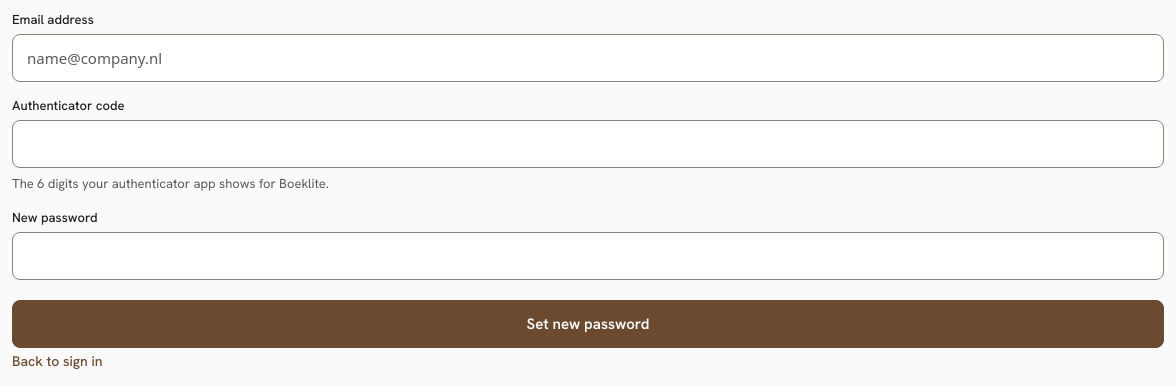
Test: password recovery screen (IAM-018) › sends the e-mail, the code without spaces and the new password, then points to sign in
This screenshot has width=1176, height=386.
Type "a@example.com" into the field with test id "recover-email" at (588, 58), box [12,34,1164,82]
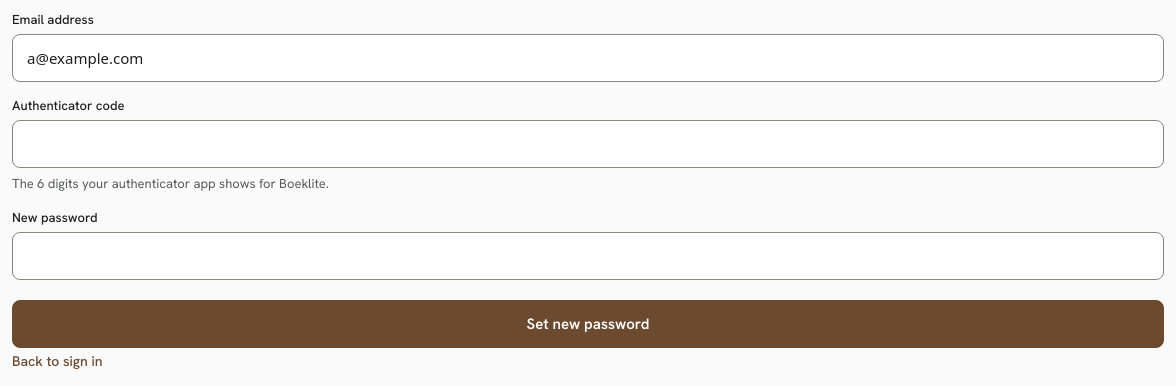
Type "123 456" into the field with test id "recover-code" at (588, 144), box [12,120,1164,168]
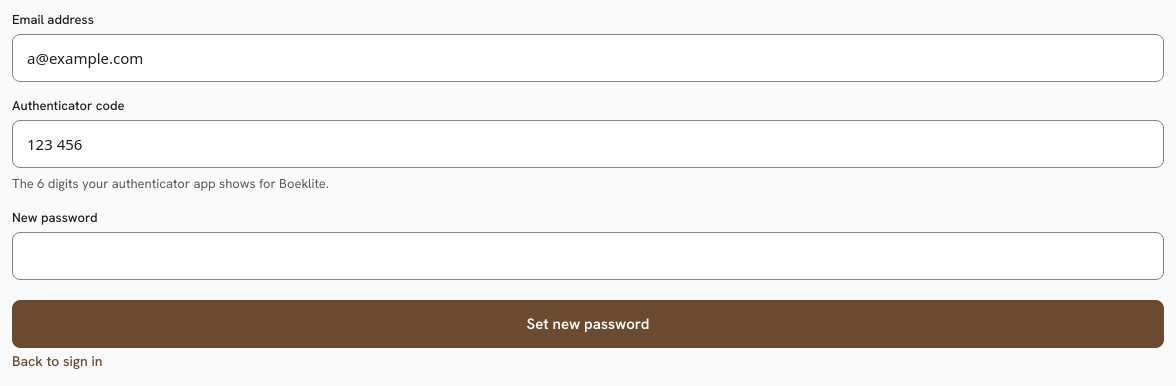
Type "a long new passphrase 1" into the password field with test id "recover-password" at (588, 256), box [12,232,1164,280]
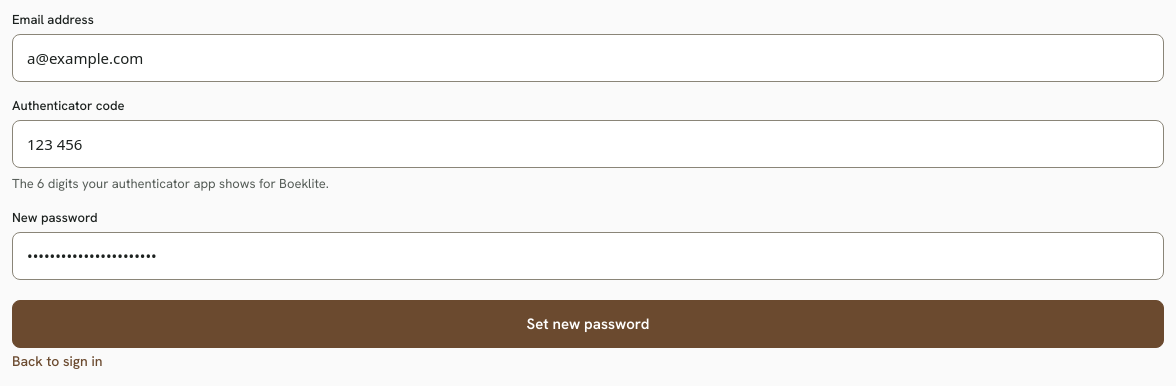
Click the button with test id "recover-submit" at (588, 324), box [12,300,1164,348]
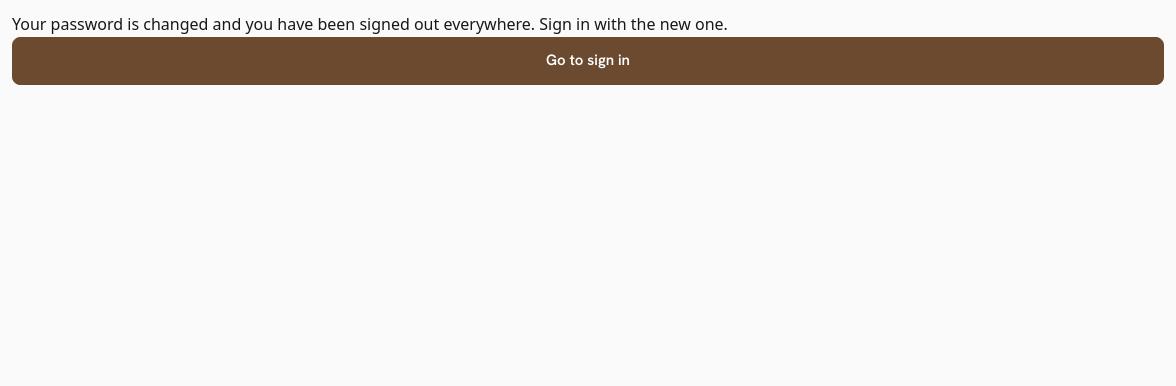
Expected: the element with test id "recover-done" is shown, [12,12,1164,85]
